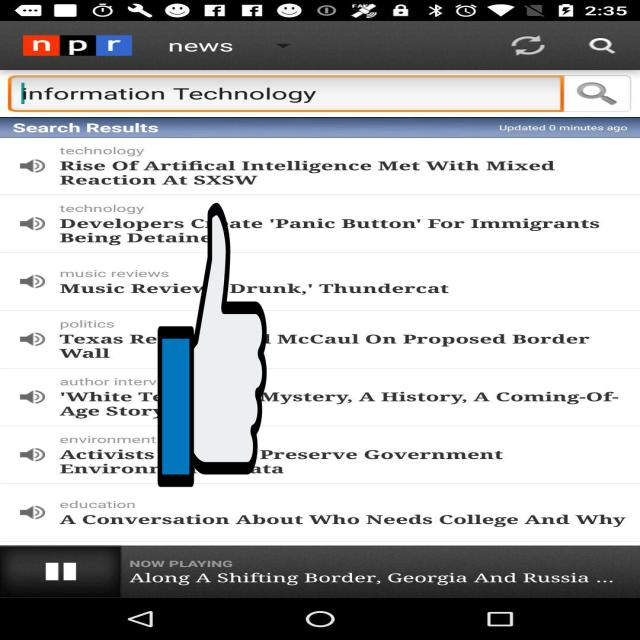privacy zuckering: (158, 197, 266, 493)
